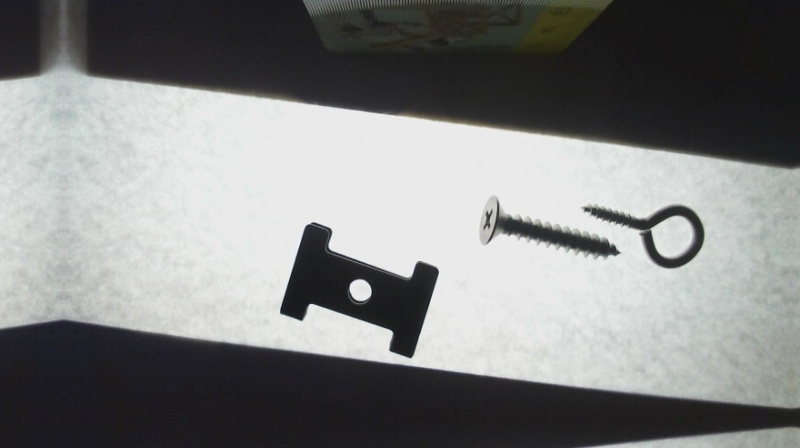O001: (579, 198, 707, 270)
O002: (277, 221, 444, 360)
S001: (475, 193, 621, 261)
